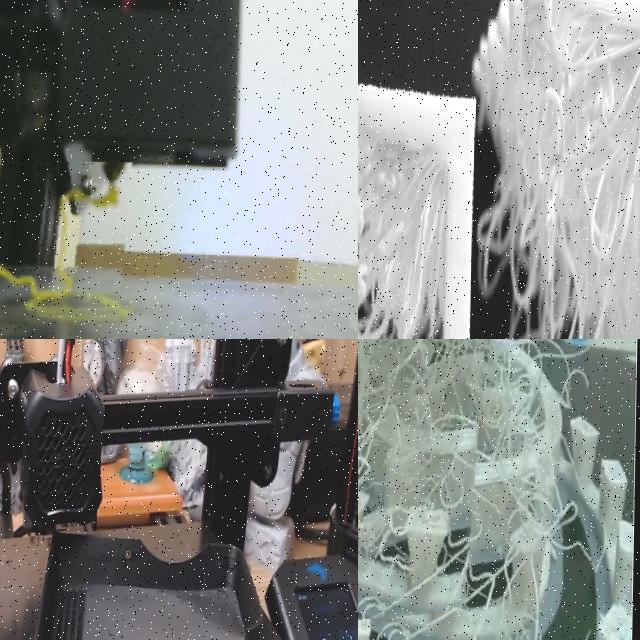spaghetti: (471, 45, 640, 339), (358, 339, 497, 640), (358, 130, 450, 339), (0, 261, 122, 316), (68, 187, 119, 209)
